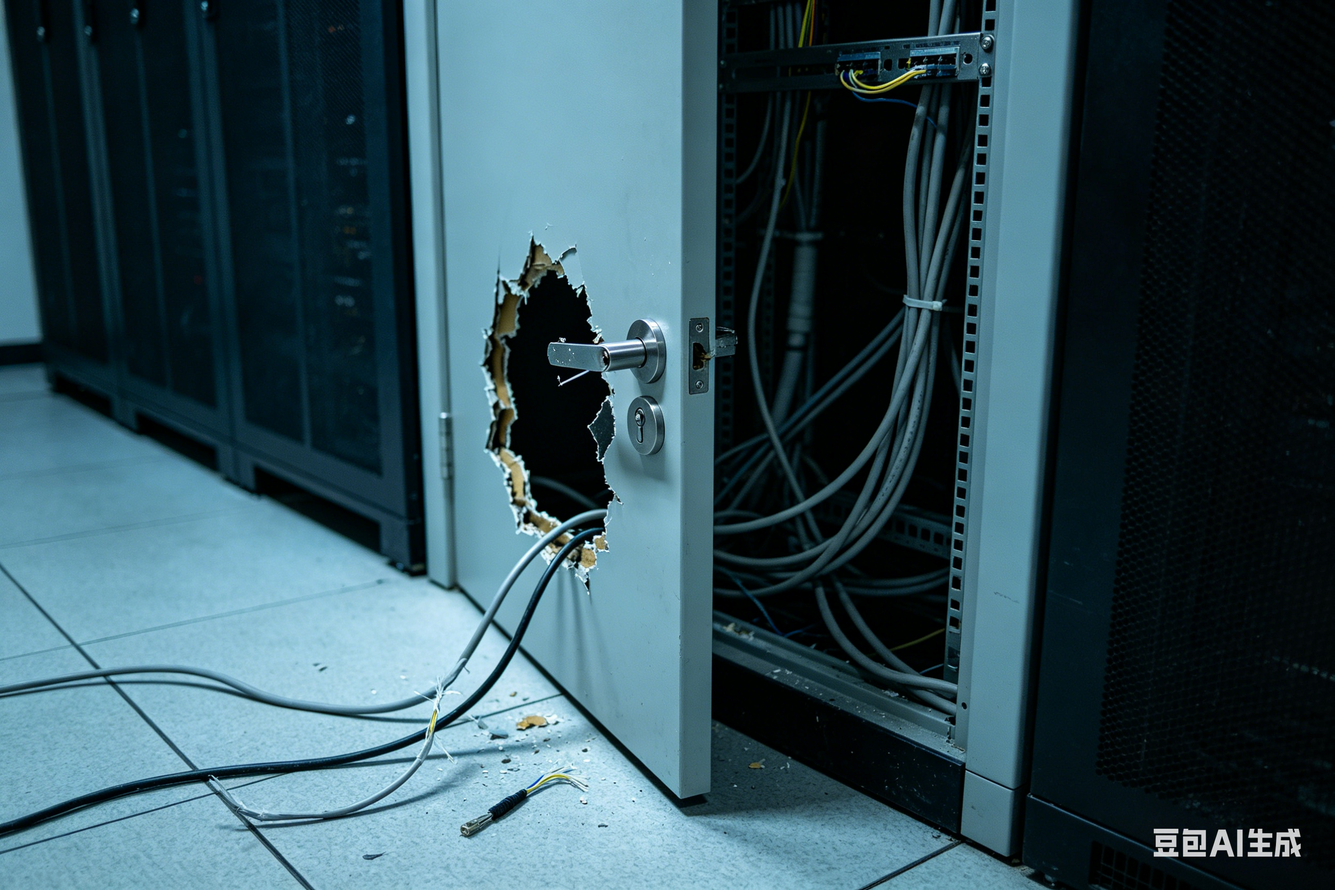BadLock: (483, 254, 659, 563)
